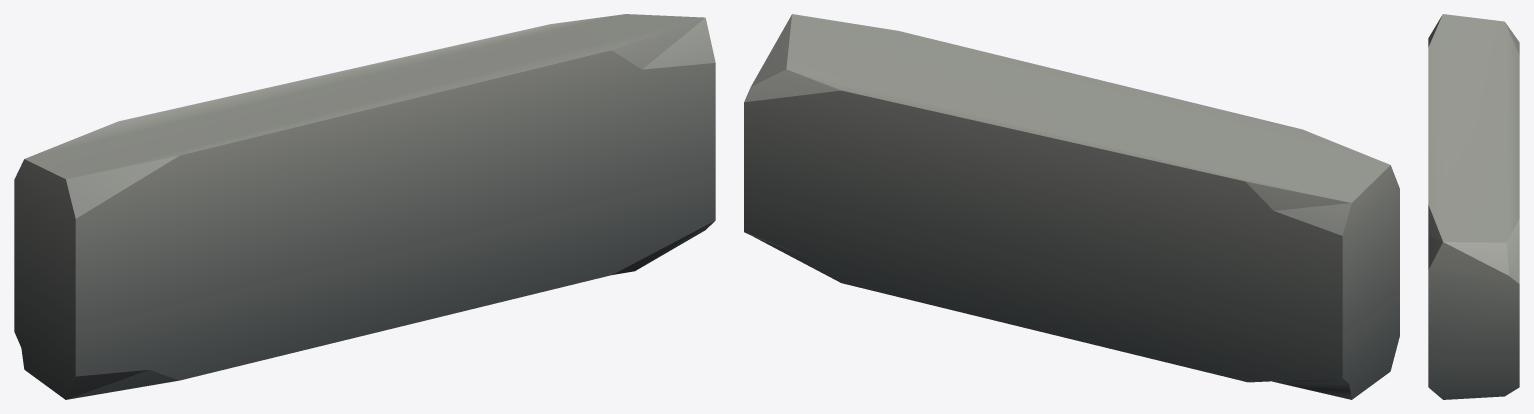
The model's file is Big_Maps_Rock_001.fbx.
3 renders of one model, left to right at view 1: azimuth 30°, elevation 25°; view 2: azimuth 150°, elevation 25°; view 3: azimuth 270°, elevation 25°, orthographic. The views are drawn at different scales.
Parts seen in each view (by area): view 1: Big_Maps_Rock_001; view 2: Big_Maps_Rock_001; view 3: Big_Maps_Rock_001.
Part boxes in pixels (<box>): Big_Maps_Rock_001: <box>14,14,715,399</box>; Big_Maps_Rock_001: <box>744,14,1399,399</box>; Big_Maps_Rock_001: <box>1428,14,1519,399</box>.
Bounding box in the file's own units: 60.19 × 20.99 × 10.
